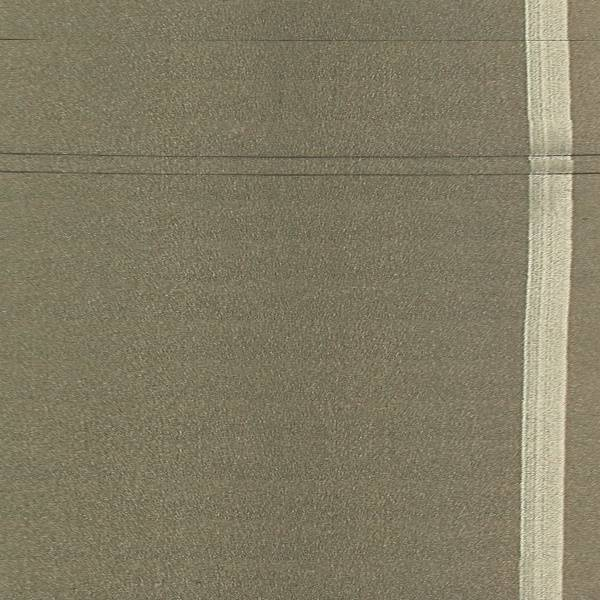road_damage: (13, 162, 599, 185)
